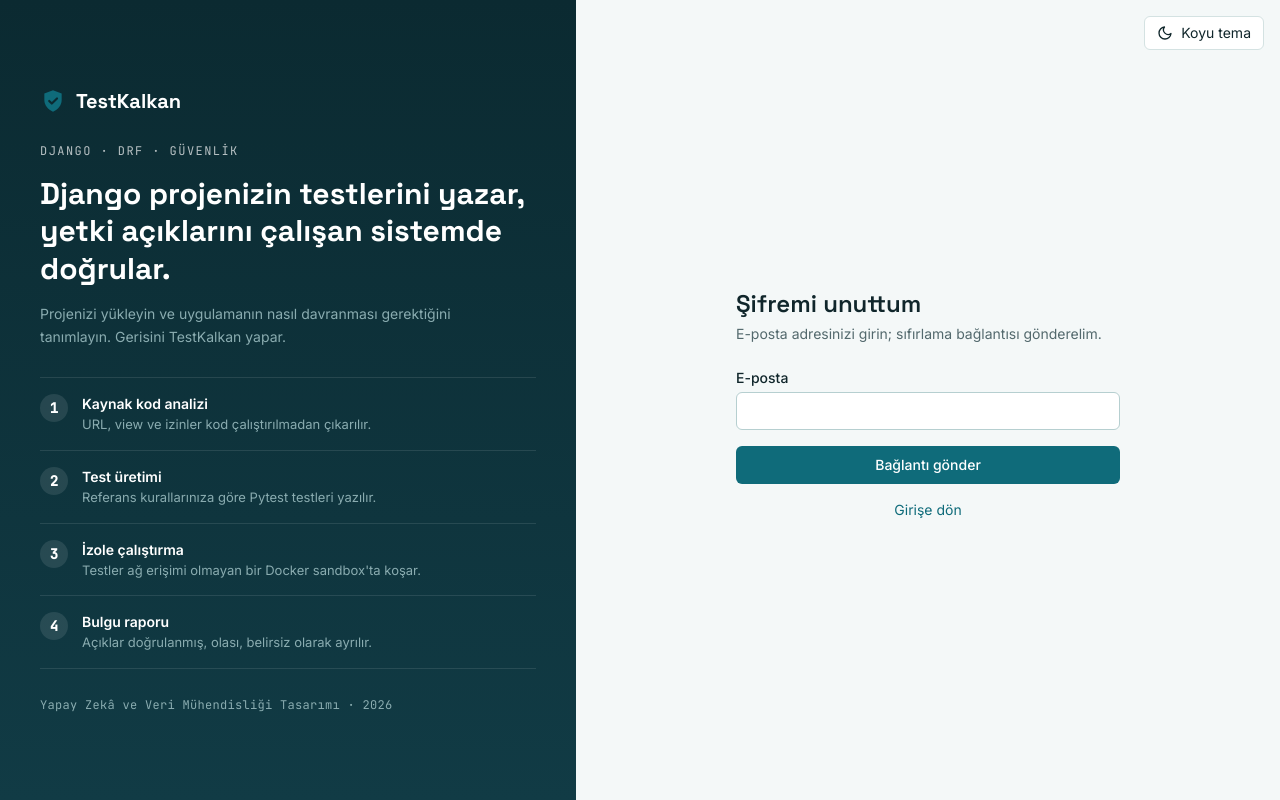
şifre sıfırlama talebi hesabın varlığını ifşa etmeyen genel onay gösterir
The image size is (1280, 800).
Type "kayitsiz@example.test" into the field labelled "E-posta".
click(928, 411); type("kayitsiz@example.test")  # box [736,392,1120,430]
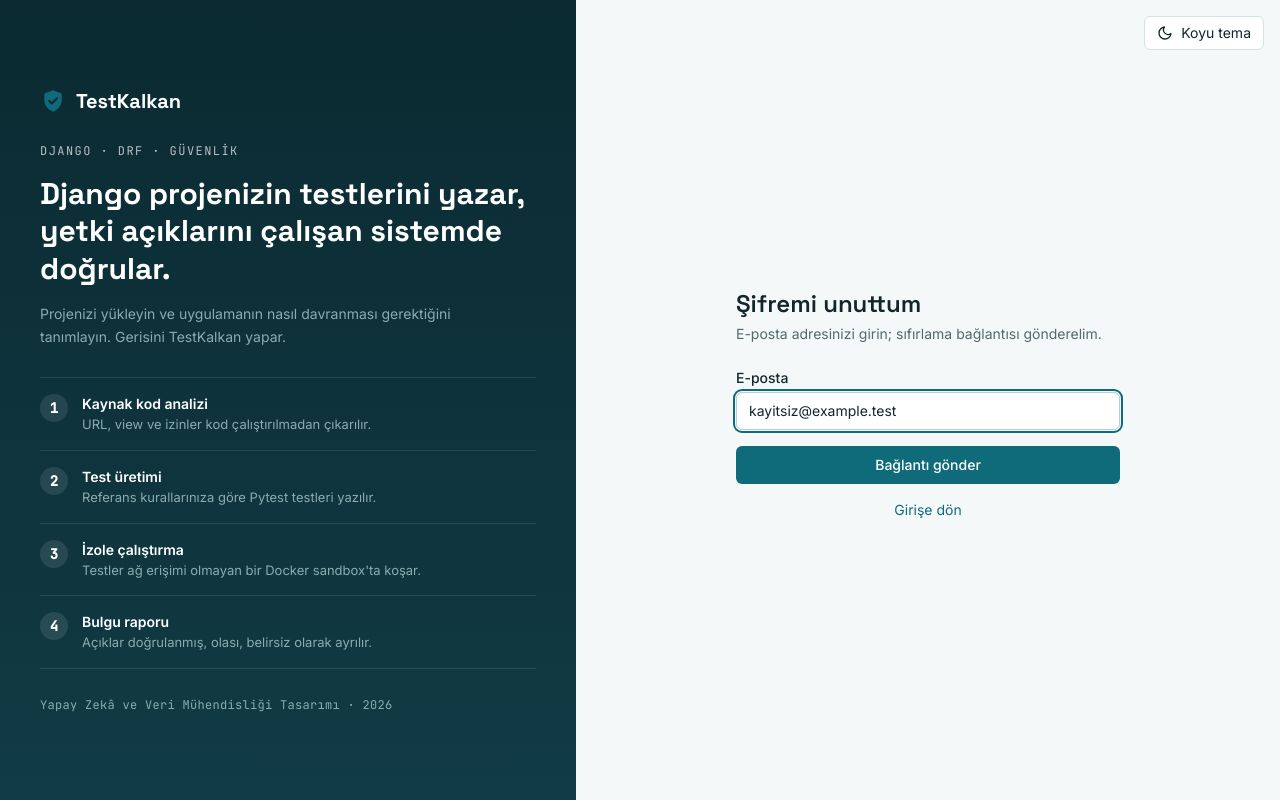
Click the button "Bağlantı gönder".
click(928, 465)  # box [736,446,1120,484]
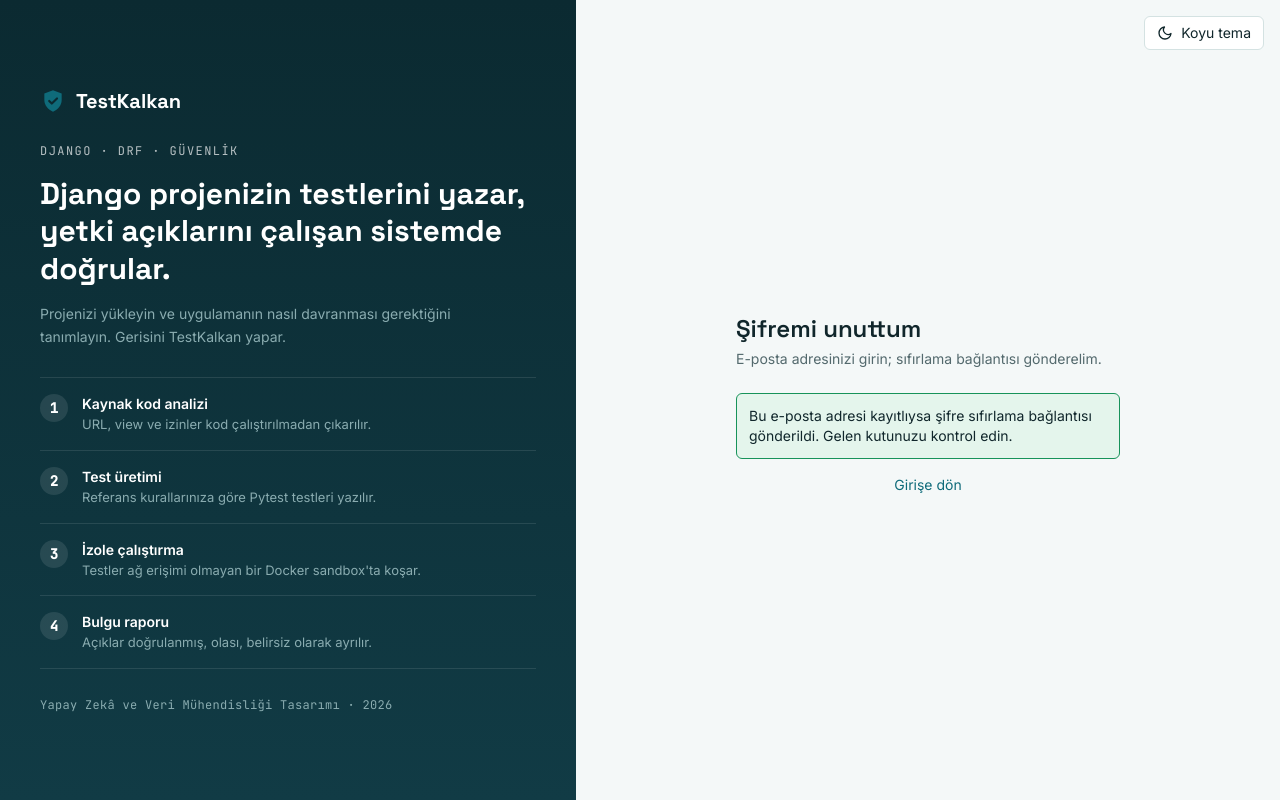
Check: the message shows "kayıtlıysa", box [749,407,1092,444]
